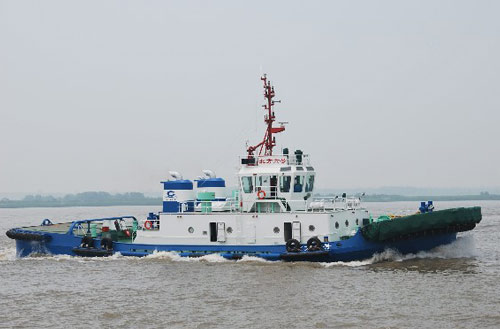otherboat: (3, 74, 485, 266)
